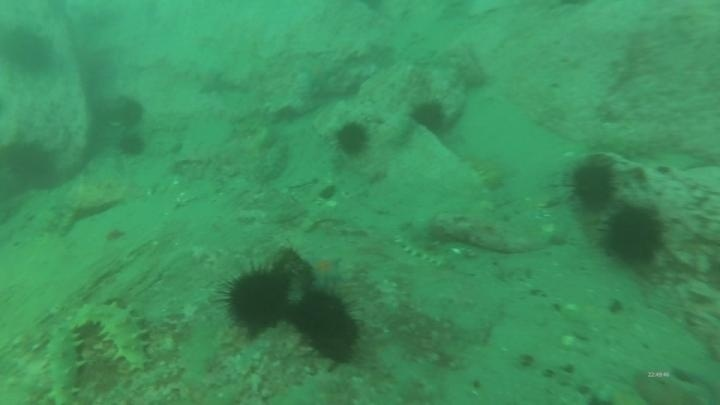echinus: (220, 262, 293, 334), (599, 203, 667, 269), (2, 137, 60, 192), (565, 156, 619, 213), (1, 23, 56, 77), (296, 289, 347, 336), (314, 317, 361, 360), (408, 98, 450, 137), (332, 119, 372, 158), (111, 95, 147, 130), (116, 131, 148, 159)
holothurian: (71, 299, 153, 374), (42, 321, 87, 405), (393, 223, 457, 270), (461, 149, 508, 193)
starfish: (295, 54, 339, 93), (303, 250, 346, 289)
